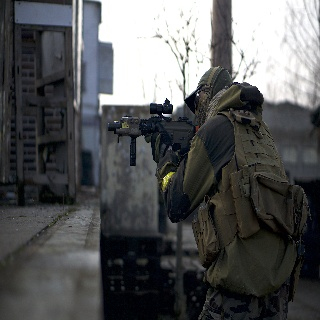rifle: (107, 97, 196, 167)
